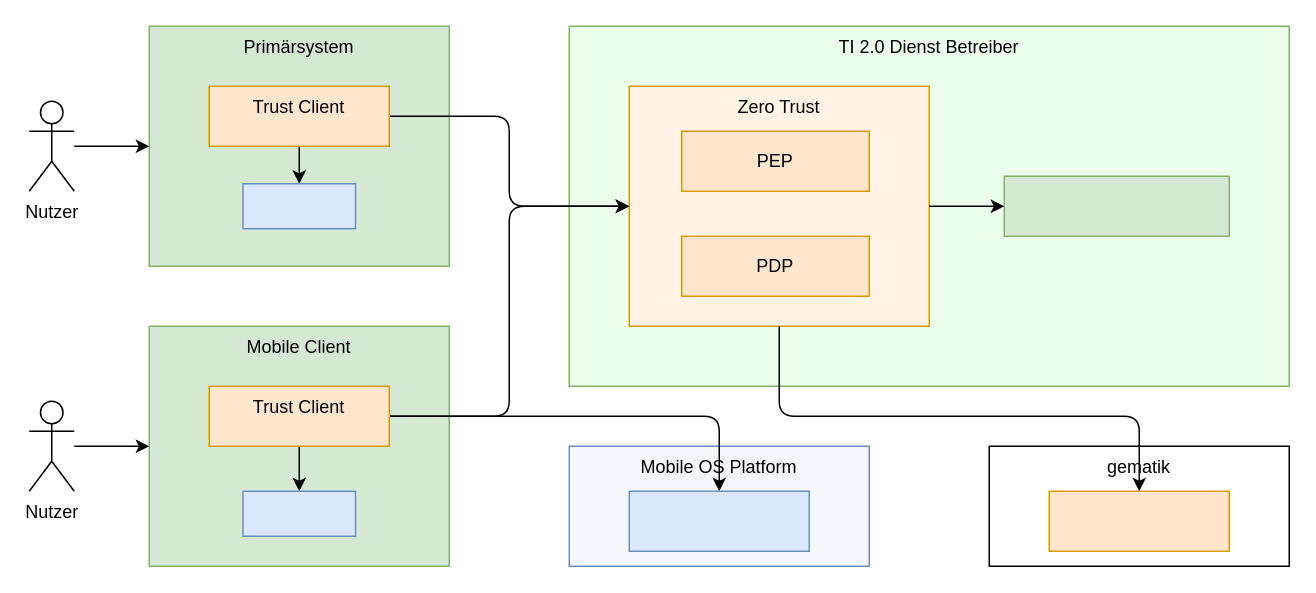
Image size: 1316x593. Some labels were removed from this diagram. The shapes that lost their labels are listed below. From the top down, each one's centre as x and y in pixels, then its label:
the point at 299,205: TPM
the point at 1116,205: Resource Server (Application Backend)
the point at 299,513: TEE
the point at 718,520: Mobile OS Attestation
the point at 1138,520: PIP und PAP Service
